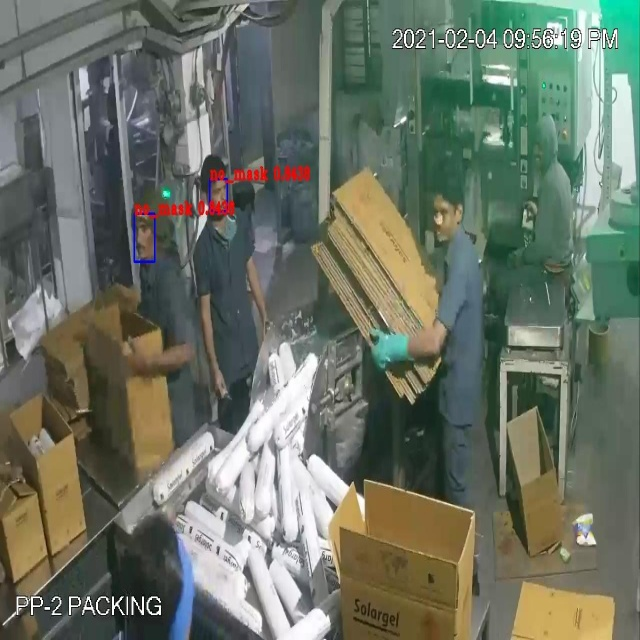Guantes: (364, 312, 449, 380)
Sin_guantes: (103, 329, 194, 385), (239, 237, 275, 352), (198, 272, 228, 397)
